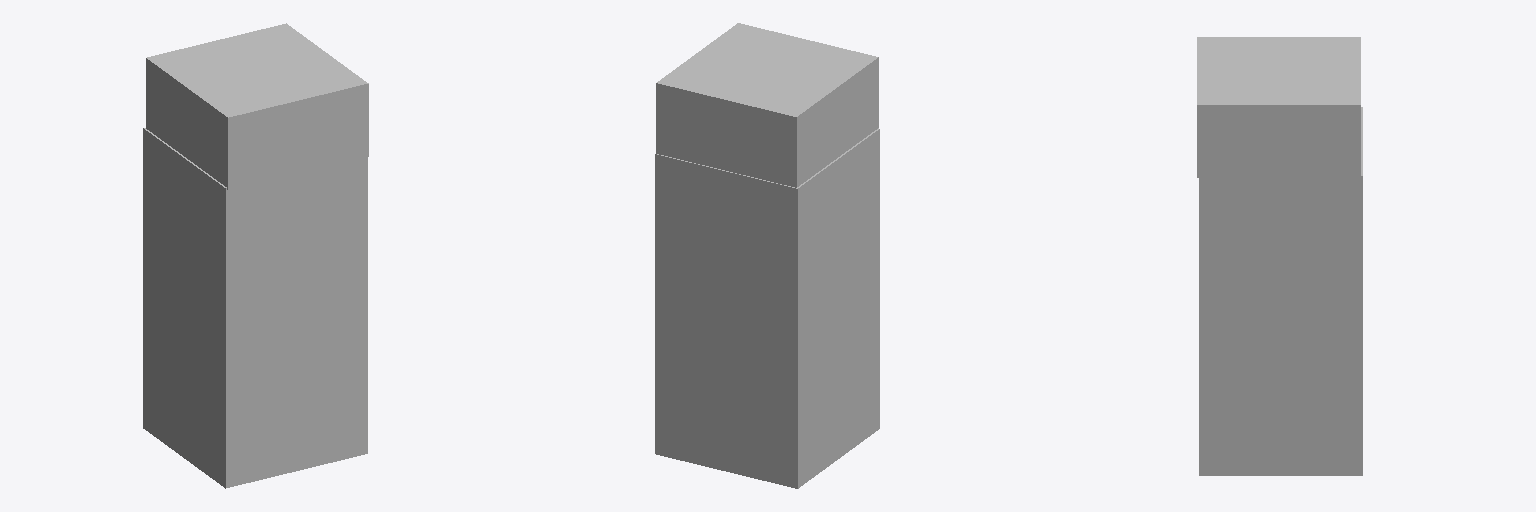
The model's file is wall1.obj.
The picture shows the model from 3 angles: view 1: azimuth 30°, elevation 25°; view 2: azimuth 150°, elevation 25°; view 3: azimuth 270°, elevation 25°; orthographic projection.
Parts seen in each view (by area): view 1: mesh_0, mesh_1; view 2: mesh_0, mesh_1; view 3: mesh_0, mesh_1.
Boxes of the visible parts, box(x1,y1,x2,y2) form: mesh_0: box(143, 128, 367, 488); mesh_1: box(146, 23, 368, 190); mesh_0: box(655, 128, 879, 488); mesh_1: box(656, 23, 878, 187); mesh_0: box(1199, 107, 1362, 475); mesh_1: box(1197, 37, 1360, 177).
Size of the model in its own units: 1 by 2.49 by 1.01.